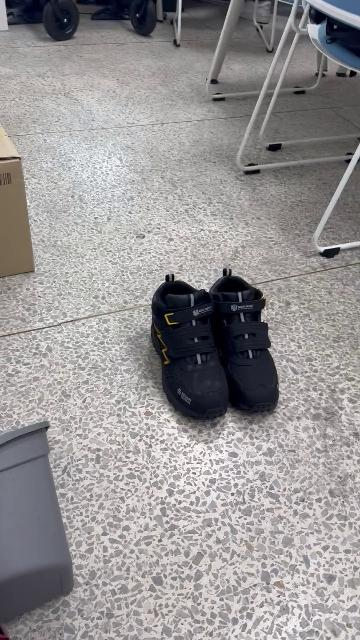shoe_worn: (147, 275, 229, 416), (208, 268, 279, 414)
